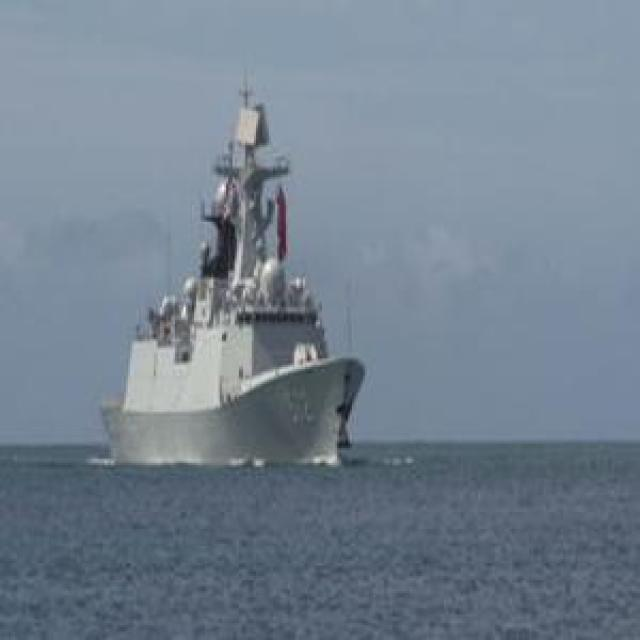navalvessels: (62, 63, 380, 455)
